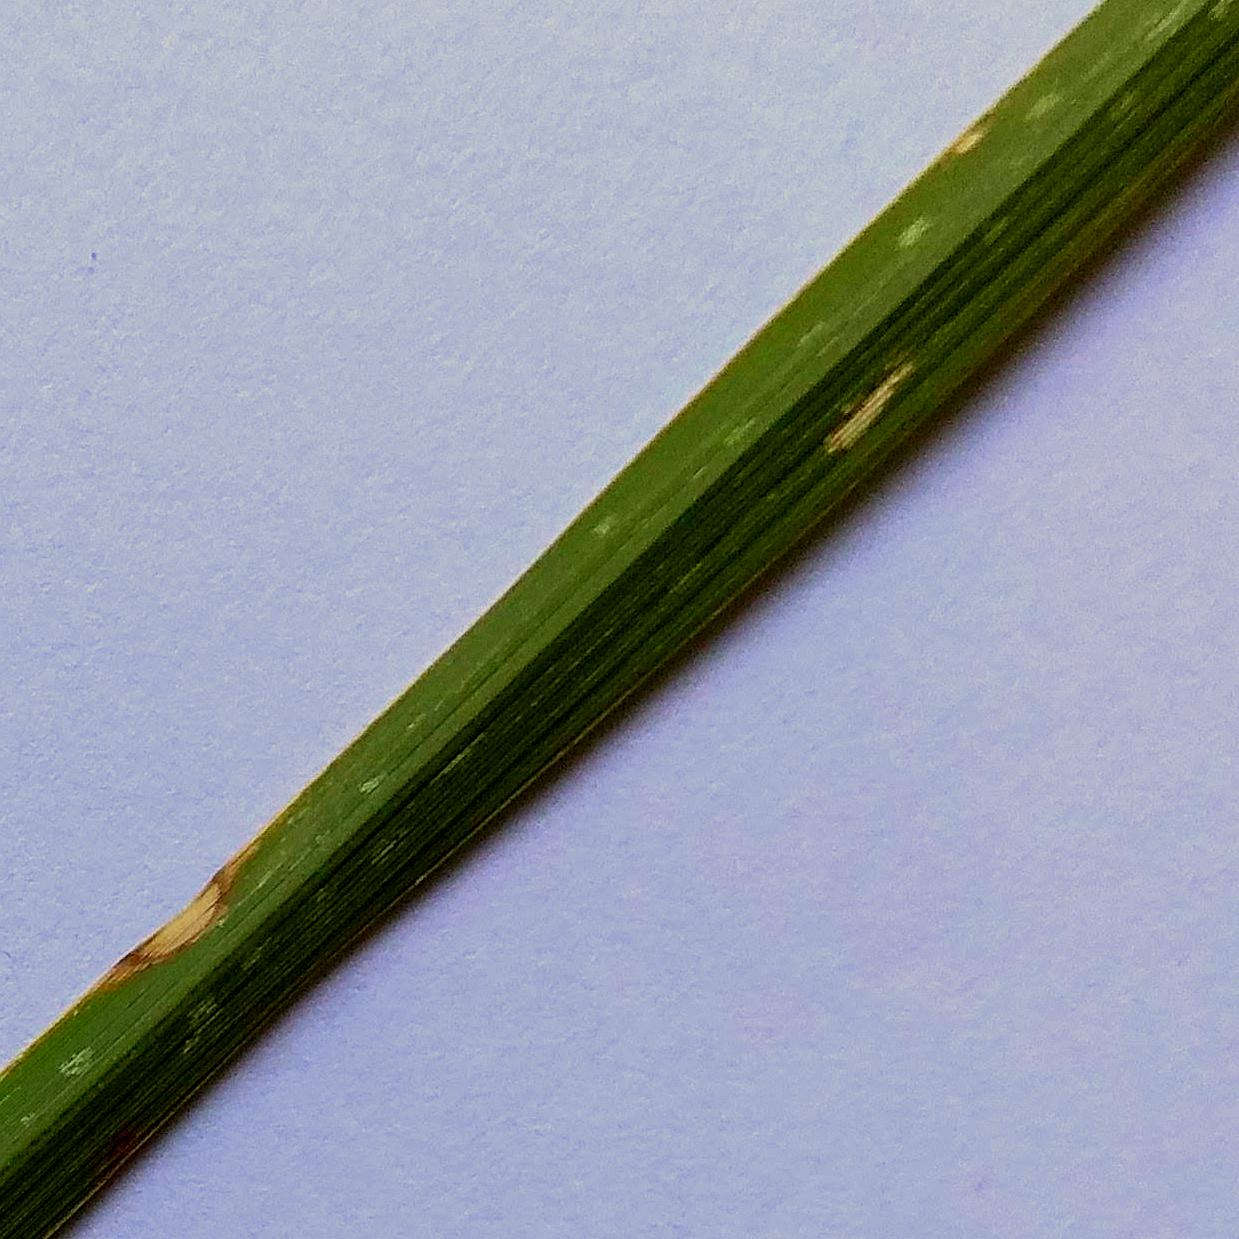1 RiceBlast: (100, 832, 258, 975), (800, 324, 932, 467)
